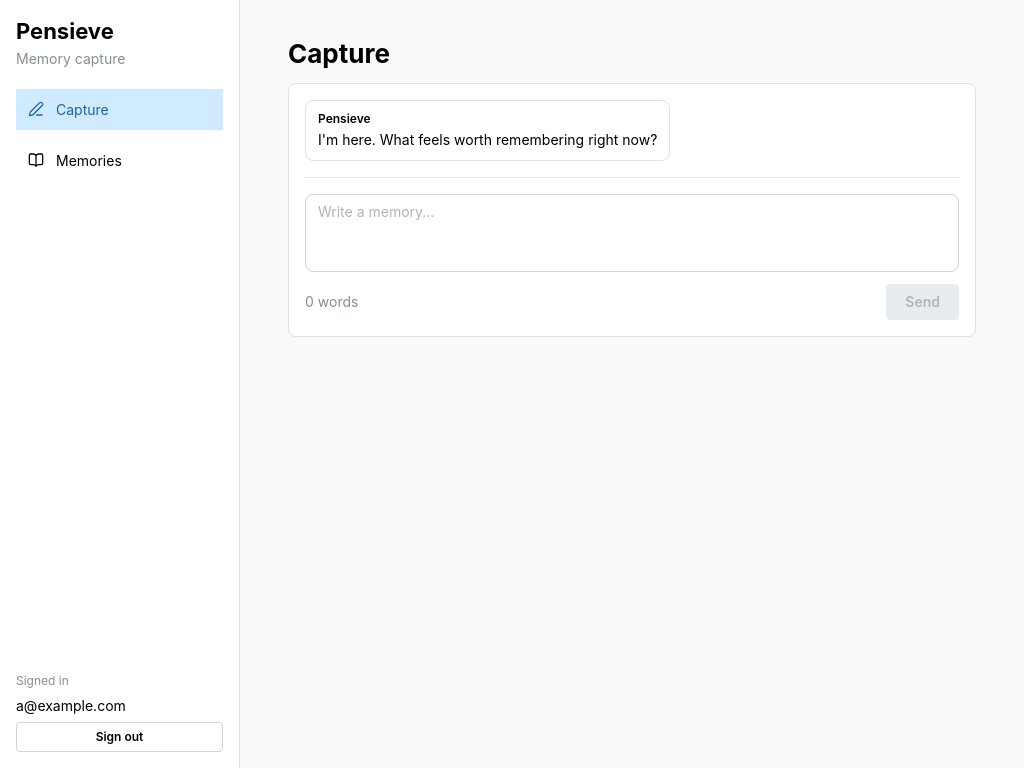
it: App memory flow › saves a memory in place and shows the AI summary on the timeline
In the text box named "Message to save as a memory": x=632, y=233 [305, 194, 959, 272], type "I felt calmer after writing the plan down."
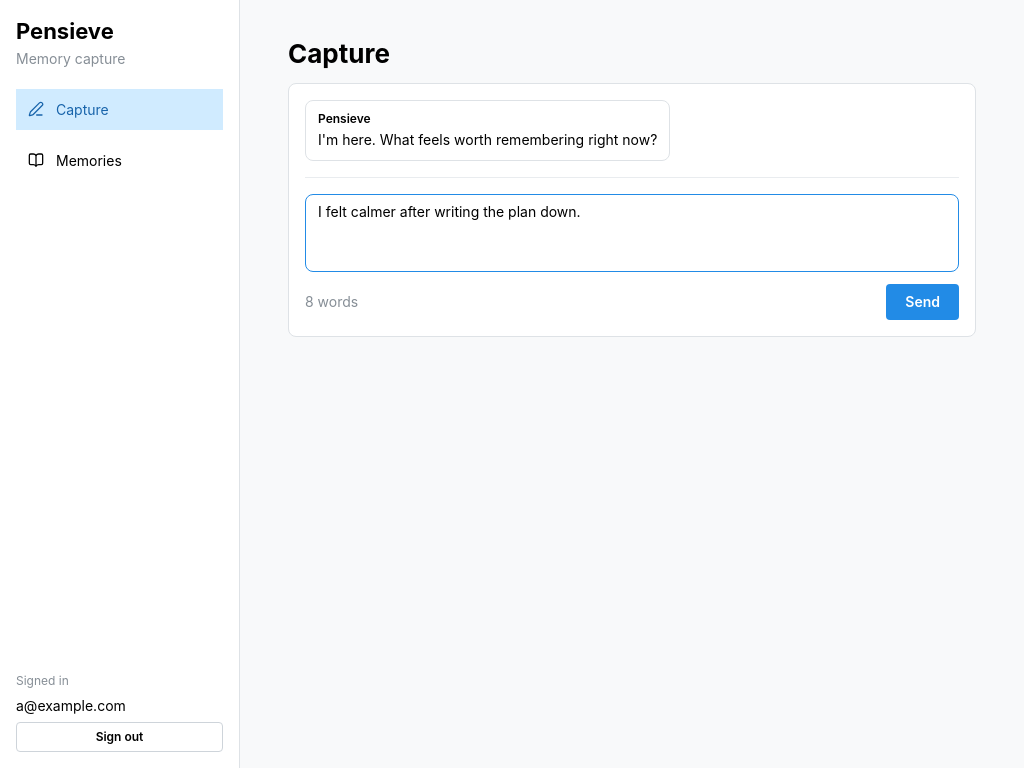
Click the button named "Send memory": x=923, y=302 [886, 284, 959, 320]
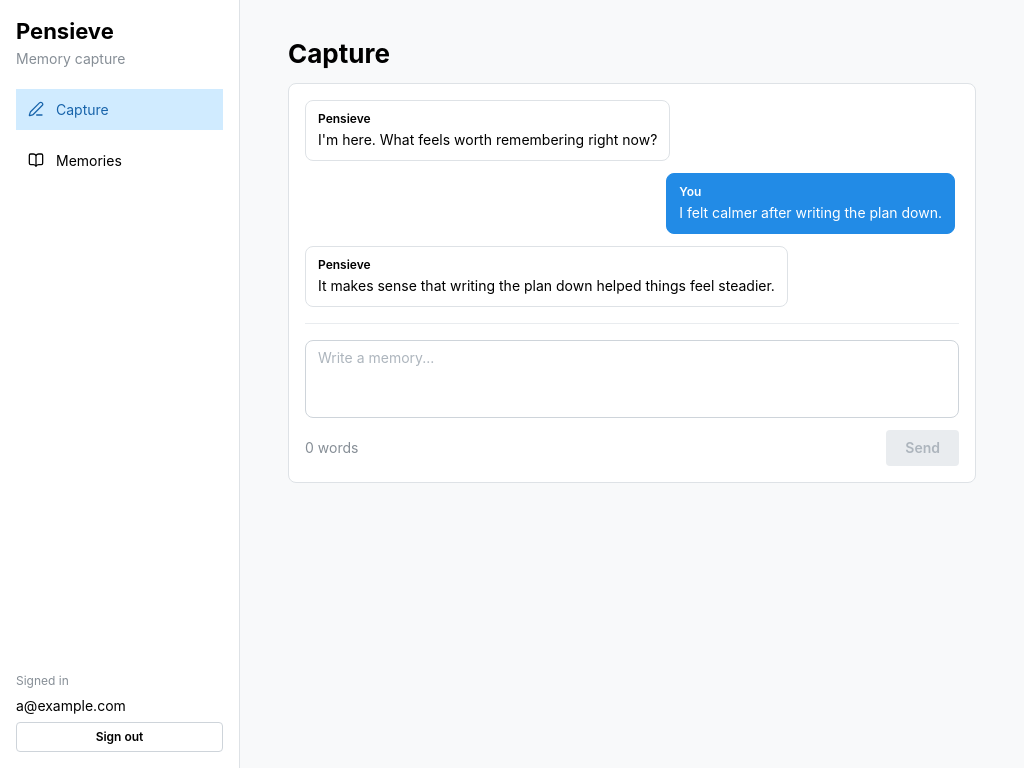
Expected: the heading "Capture" is shown, [288, 38, 390, 69]
Expected: the text "It makes sense that writing the plan down helped things feel steadier." is shown, [318, 276, 775, 296]
Click the button "Memories": x=120, y=160 [16, 140, 223, 181]
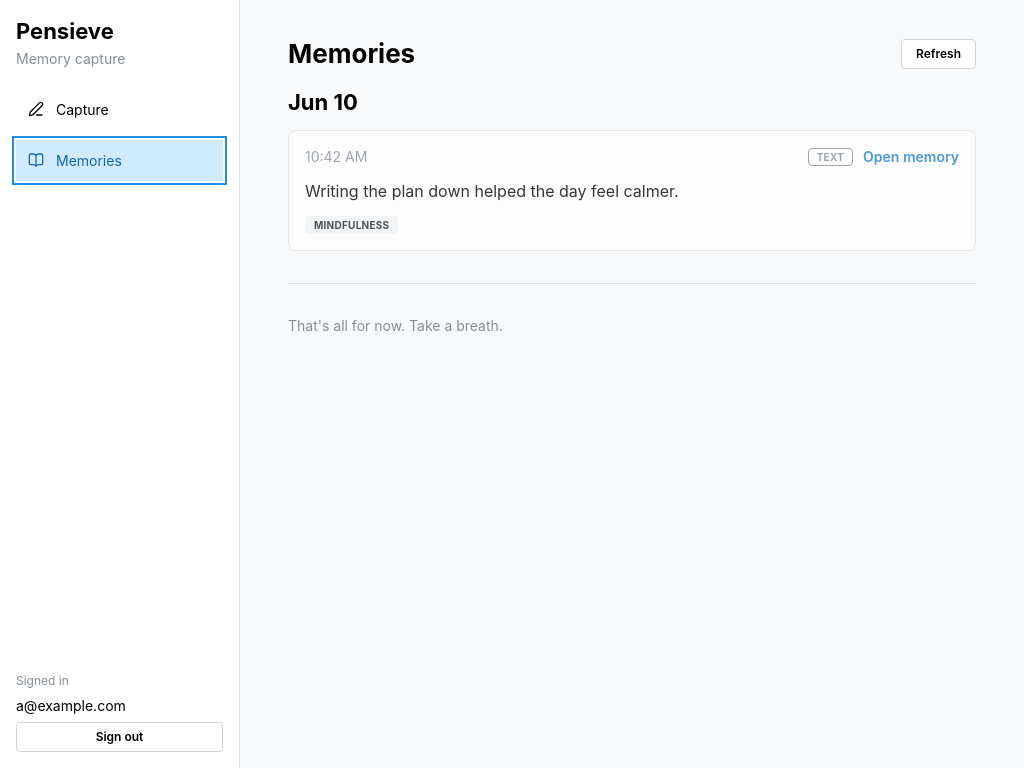
Expected: the text "Writing the plan down helped the day feel calmer." is shown, [305, 181, 679, 201]
